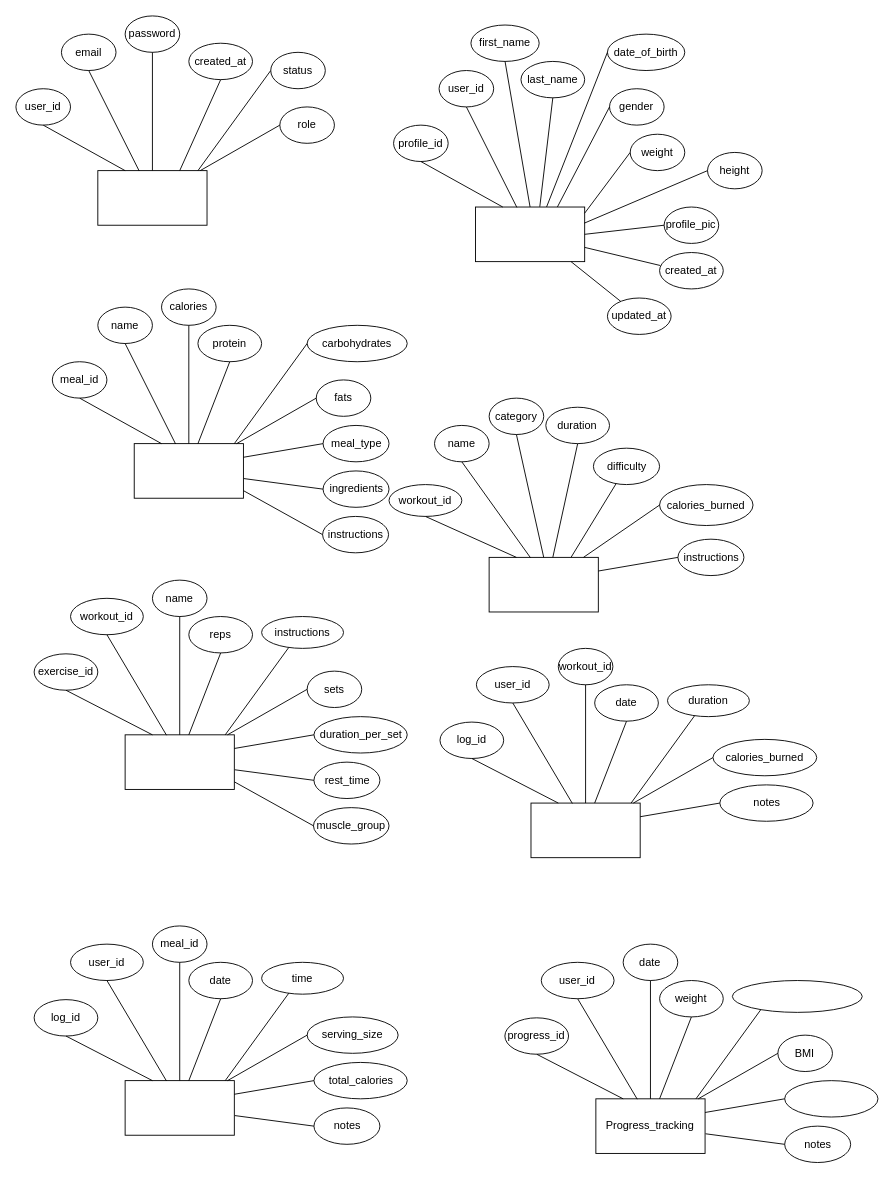
Image size: 895x1178. Some labels were removed from this diagram. Here are the shapes that lost their labels. From the top down, the box of each, then its label:
(97, 170, 207, 225): Users
(475, 206, 585, 262): User_profile
(133, 443, 243, 498): Meals
(488, 556, 598, 612): Workouts
(124, 734, 234, 789): Exercises
(530, 802, 640, 858): Workout_logs
(731, 980, 862, 1012): body_fat_percentage
(124, 1080, 234, 1135): Meal_logs
(784, 1080, 878, 1117): muscle_mass
